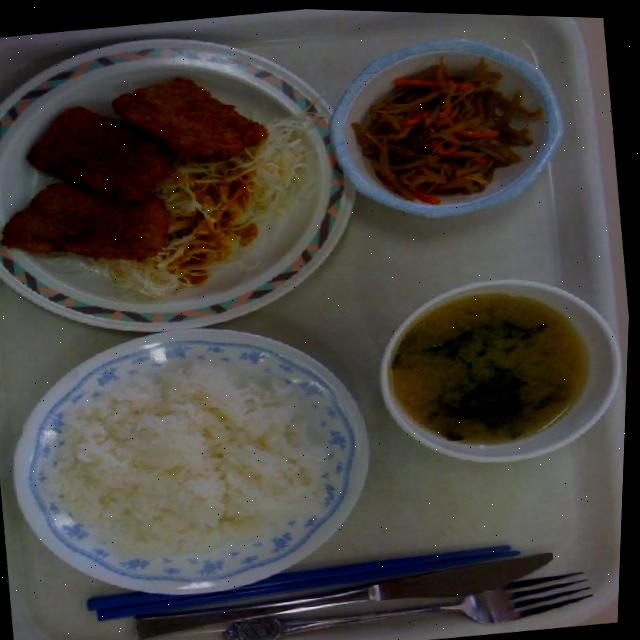米饭主食: (0, 308, 387, 626)
蔬菜料理: (313, 14, 584, 240)
